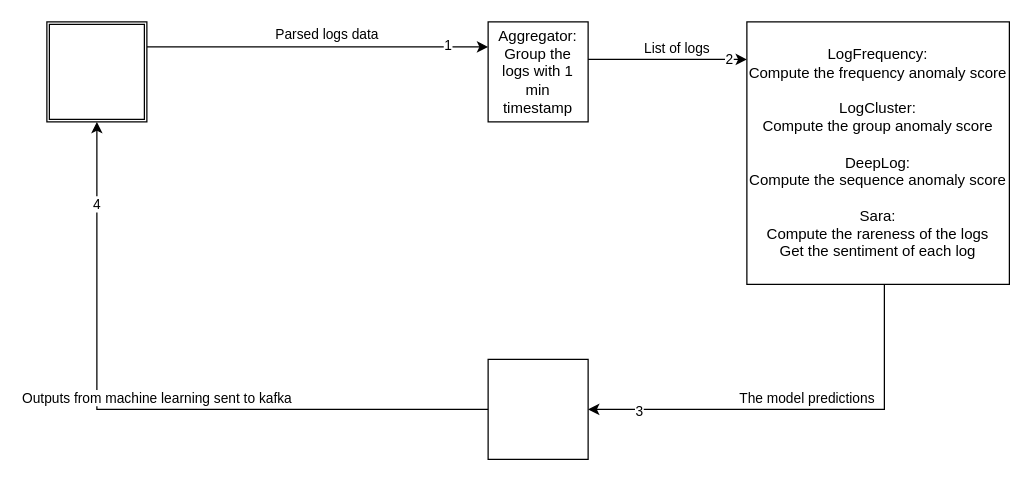
Image size: 1031x481. Some labels were removed from this diagram. The shapes that lost their labels are listed below. From the top down, each one's centre as x and y in pixels, then its label:
At point (96, 71): "KAFKA".
At point (537, 408): "Output: Construct the output to be sent to kafka".
